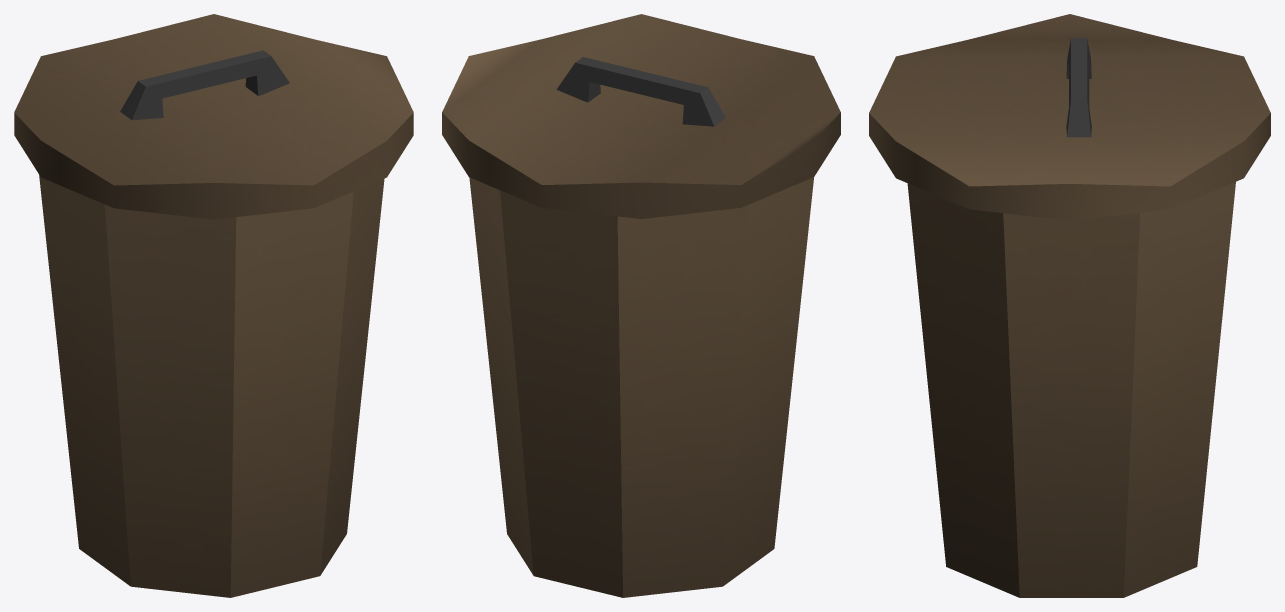
The model's file is ZLP_Build_D_26.FBX.
The picture shows the model from 3 angles, left to right: view 1: azimuth 30°, elevation 25°; view 2: azimuth 150°, elevation 25°; view 3: azimuth 270°, elevation 25°; orthographic projection.
Parts seen in each view (by area): view 1: ZLP_Build_D_26; view 2: ZLP_Build_D_26; view 3: ZLP_Build_D_26.
Boxes of the visible parts, x1,y1,x2,y2 form: ZLP_Build_D_26: [14, 14, 413, 597]; ZLP_Build_D_26: [442, 14, 840, 597]; ZLP_Build_D_26: [869, 14, 1270, 597].
Size of the model in its own units: 35.09 by 45.66 by 35.09.
